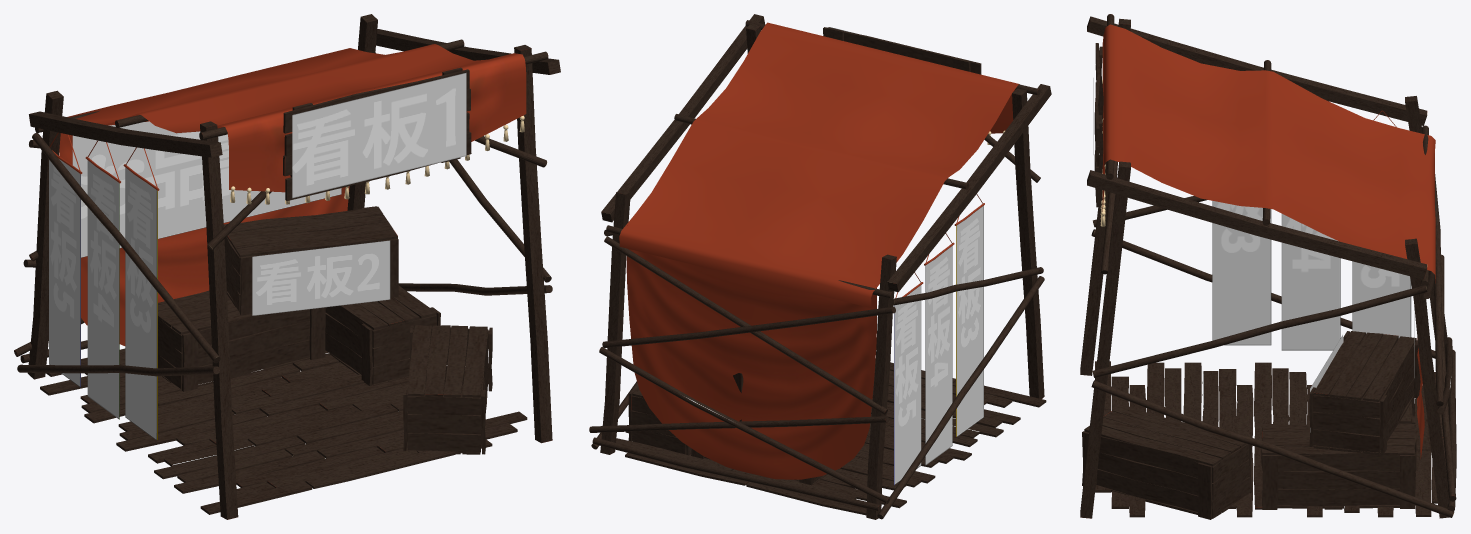
3 views of the same model, side by side, from view 1: azimuth 30°, elevation 25°; view 2: azimuth 150°, elevation 25°; view 3: azimuth 270°, elevation 25° (orthographic). The views are drawn at different scales.
Parts seen in each view (by area): view 1: Frame, Sign, Sheat; view 2: Sheat, Frame, Sign; view 3: Frame, Sheat, Sign.
Boxes of the visible parts, x1,y1,x2,y2 form: Frame: (14, 14, 560, 519); Sign: (49, 72, 466, 440); Sheat: (49, 44, 526, 439); Sheat: (619, 22, 1019, 484); Frame: (589, 14, 1051, 519); Sign: (829, 27, 983, 484); Frame: (1080, 14, 1456, 519); Sheat: (1100, 24, 1435, 458); Sign: (1093, 78, 1414, 432).
Bounding box in the file's own units: 3.97 × 4.17 × 3.95.
Materials: 1 (1 with a texture image).
